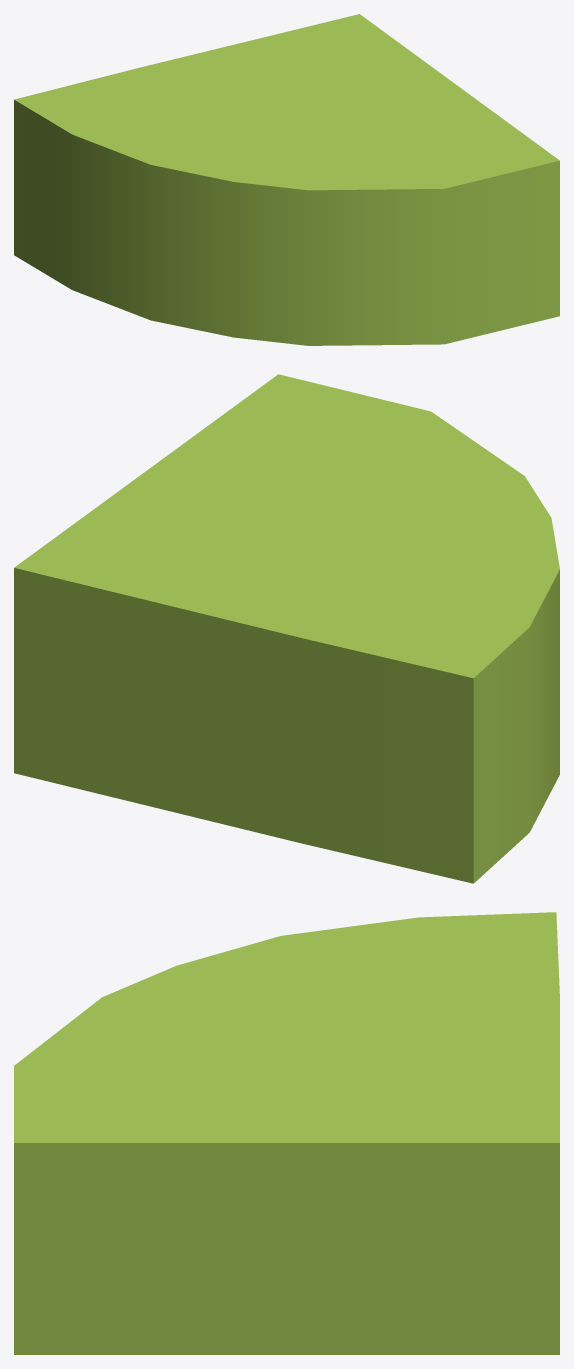
The model's file is RightSidedRoundEdge.fbx.
3 renders of one model, top to bottom at view 1: azimuth 30°, elevation 25°; view 2: azimuth 150°, elevation 25°; view 3: azimuth 270°, elevation 25°, orthographic. The views are drawn at different scales.
Visible parts, largest first — view 1: RightSidedRoundedEdge001; view 2: RightSidedRoundedEdge001; view 3: RightSidedRoundedEdge001.
Boxes of the visible parts, x1,y1,x2,y2 form: RightSidedRoundedEdge001: [14, 14, 559, 345]; RightSidedRoundedEdge001: [14, 374, 559, 883]; RightSidedRoundedEdge001: [14, 912, 559, 1354].
Size of the model in its own units: 277 by 118 by 277.
